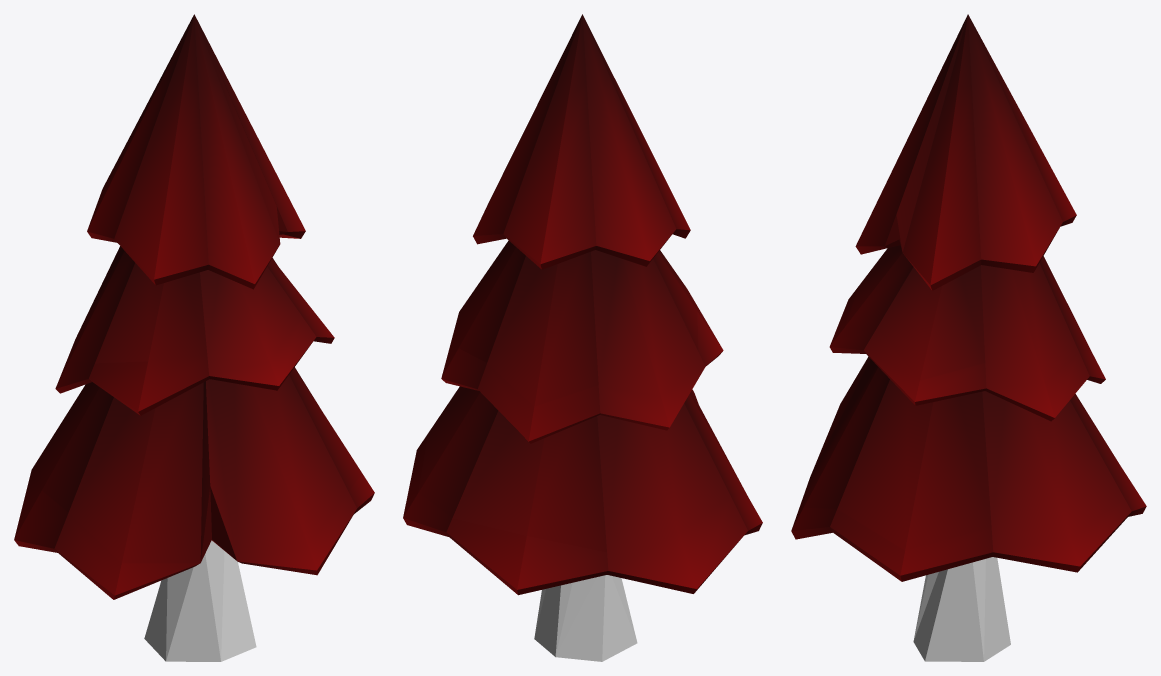
The model's file is PineTree02_Snow_LOD0.fbx.
3 renders of one model, left to right at view 1: azimuth 30°, elevation 25°; view 2: azimuth 150°, elevation 25°; view 3: azimuth 270°, elevation 25°, orthographic.
Visible parts, largest first — view 1: PineTree01_SnowLeafs_LOD0.001, PineTree01_Snow_LOD0.001, PineTree01_SnowTrunk_LOD0.001; view 2: PineTree01_SnowLeafs_LOD0.001, PineTree01_Snow_LOD0.001, PineTree01_SnowTrunk_LOD0.001; view 3: PineTree01_SnowLeafs_LOD0.001, PineTree01_Snow_LOD0.001, PineTree01_SnowTrunk_LOD0.001.
Part boxes in pixels (box(x1,y1,x2,y2)): PineTree01_SnowLeafs_LOD0.001: box(14, 65, 374, 599); PineTree01_Snow_LOD0.001: box(14, 14, 374, 595); PineTree01_SnowTrunk_LOD0.001: box(144, 540, 256, 661); PineTree01_SnowLeafs_LOD0.001: box(403, 63, 762, 595); PineTree01_Snow_LOD0.001: box(403, 14, 762, 589); PineTree01_SnowTrunk_LOD0.001: box(534, 575, 637, 661); PineTree01_SnowLeafs_LOD0.001: box(791, 67, 1146, 581); PineTree01_Snow_LOD0.001: box(791, 14, 1146, 575); PineTree01_SnowTrunk_LOD0.001: box(913, 557, 1010, 661).
Size of the model in its own units: 1.71 by 3.37 by 1.73.
